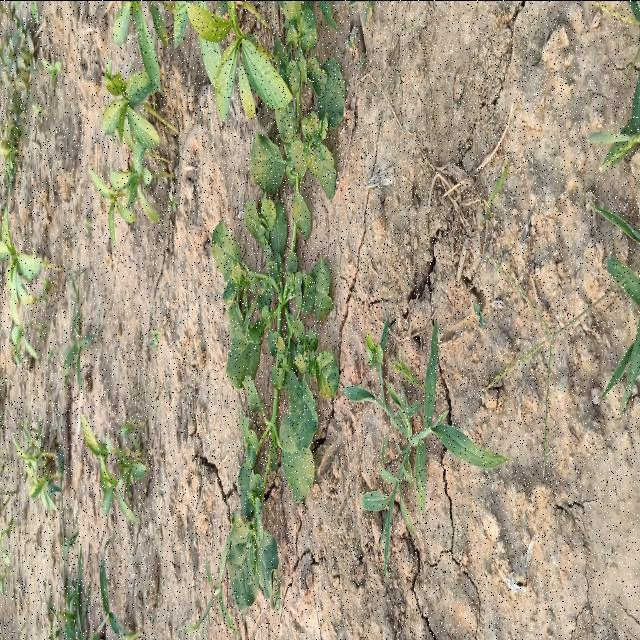plant: (212, 3, 345, 609)
